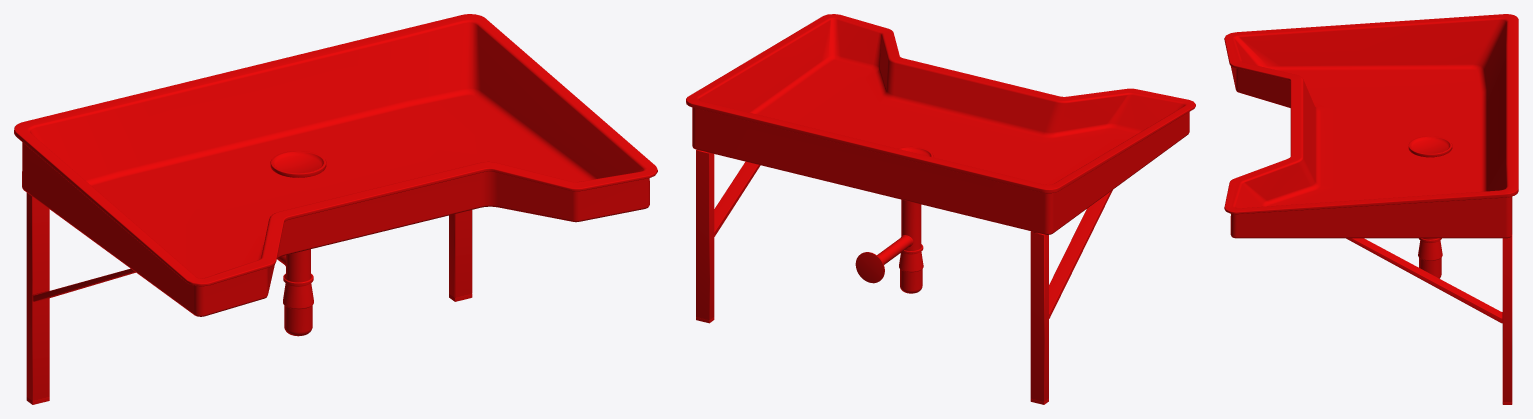
The model's file is Surgical_sink_1.fbx.
3 renders of one model, left to right at view 1: azimuth 30°, elevation 25°; view 2: azimuth 150°, elevation 25°; view 3: azimuth 270°, elevation 25°, orthographic. The views are drawn at different scales.
Visible parts, largest first — view 1: L15:polySurface36; view 2: L15:polySurface36; view 3: L15:polySurface36.
Boxes of the visible parts, x1=… form: L15:polySurface36: x1=14, y1=14, x2=657, y2=404; L15:polySurface36: x1=686, y1=14, x2=1195, y2=404; L15:polySurface36: x1=1224, y1=14, x2=1518, y2=404.
Bounding box in the file's own units: 132 × 74.41 × 91.33.
